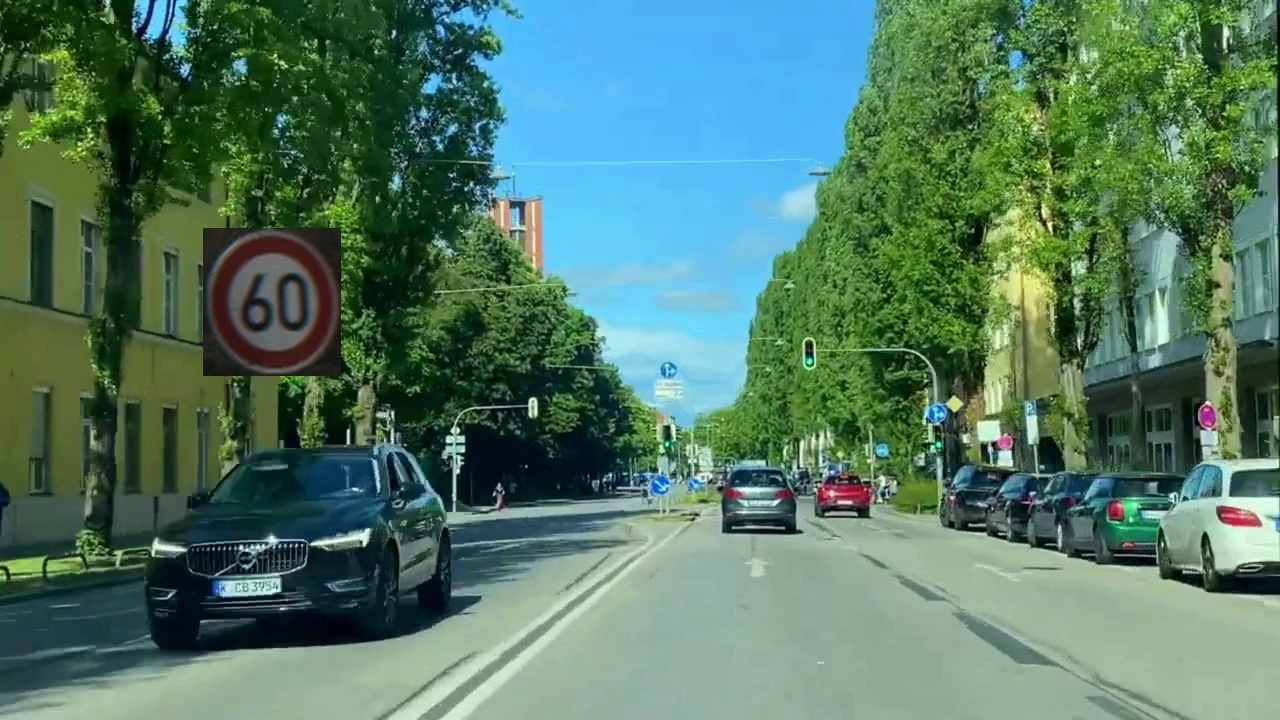Speed 60: (203, 228, 341, 376)
